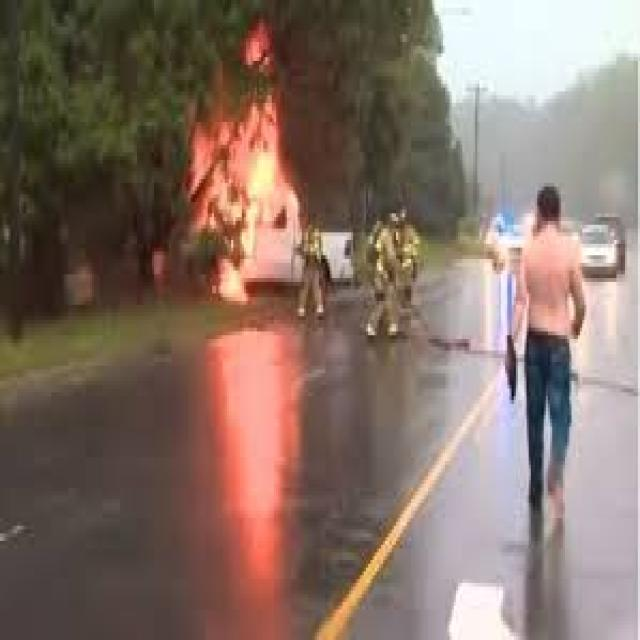Fire: (163, 8, 303, 326)
